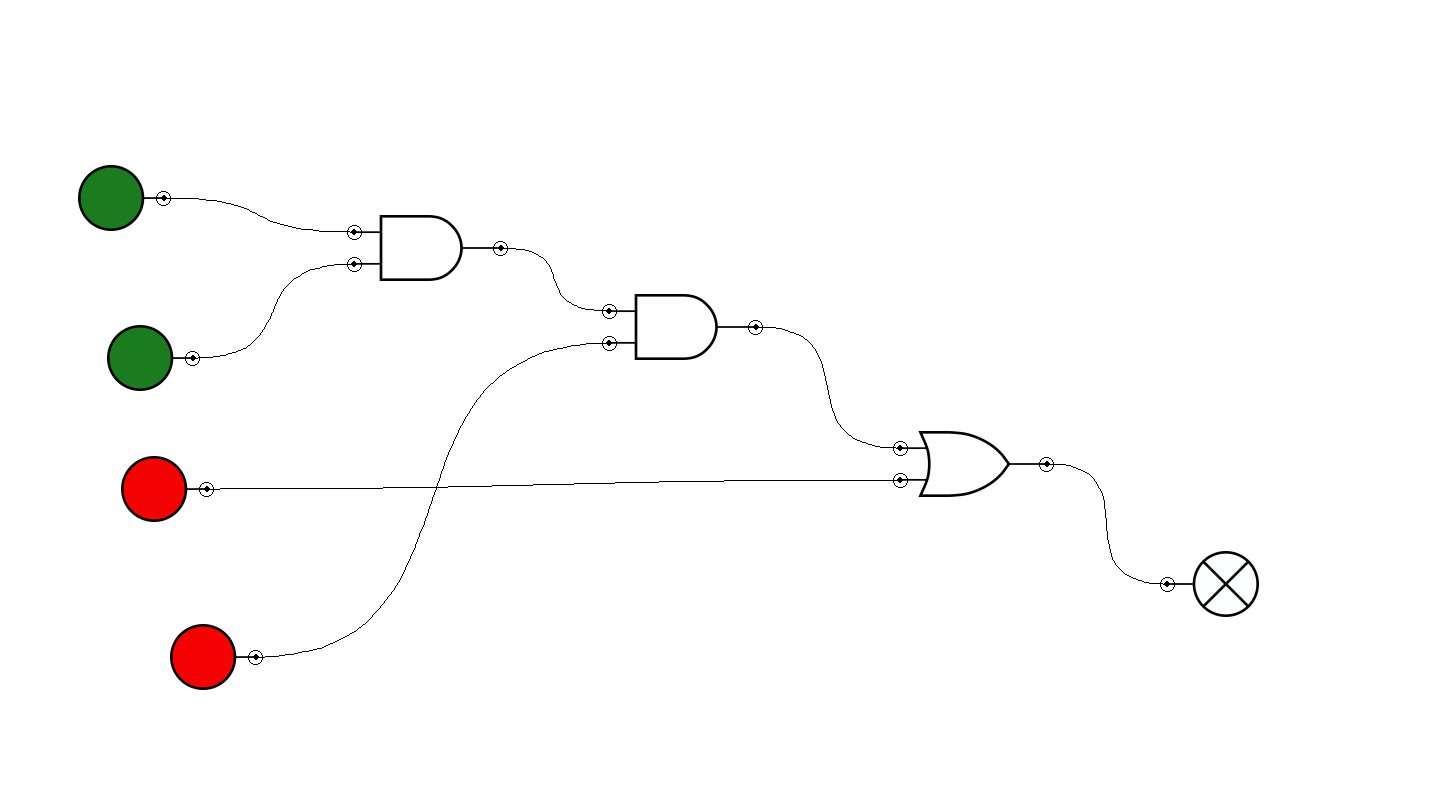and: (602, 294, 763, 360), (347, 215, 508, 281)
bulb: (1160, 551, 1259, 617)
or: (893, 431, 1054, 497)
switch_False: (121, 456, 214, 522), (170, 624, 263, 690)
switch_True: (78, 165, 171, 231), (107, 325, 200, 391)
